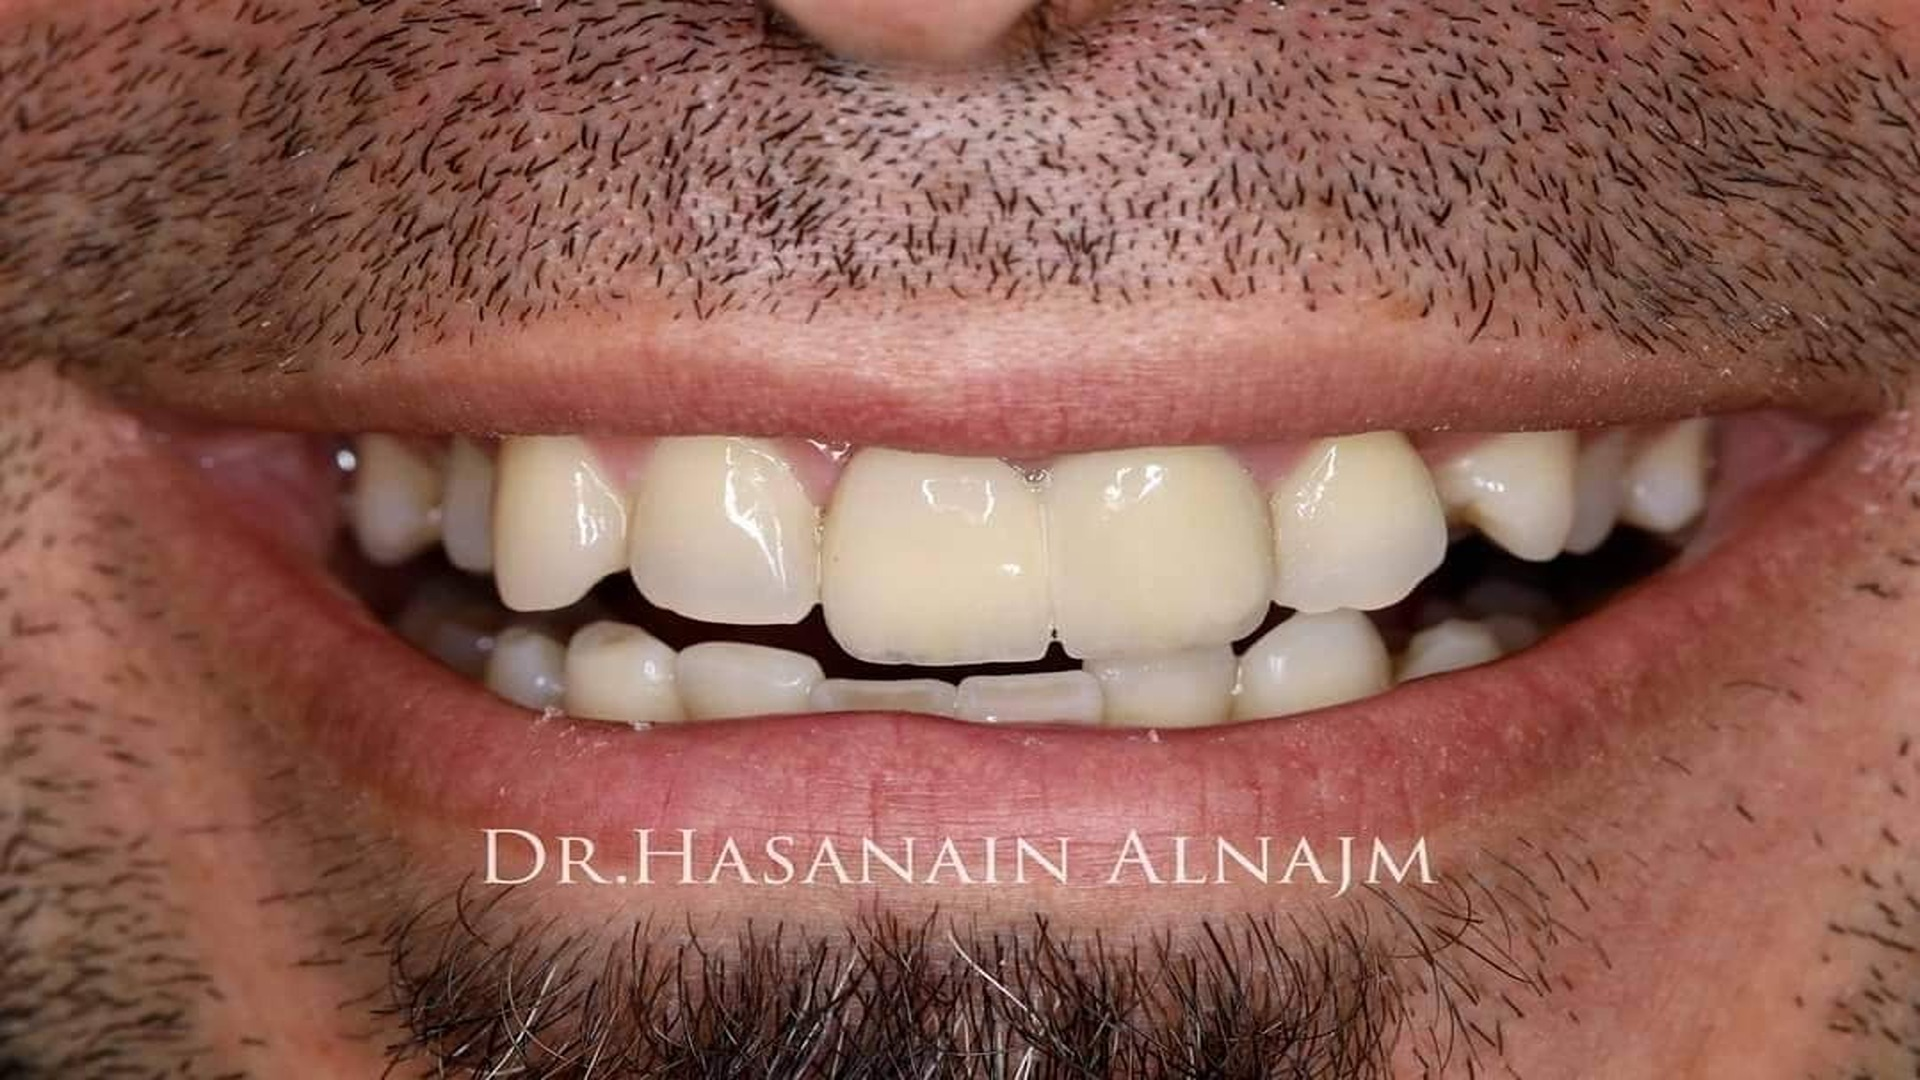tooth: (822, 446, 1052, 665), (1046, 446, 1273, 658), (628, 438, 822, 625), (1269, 430, 1447, 612), (495, 435, 629, 611), (1423, 433, 1578, 562), (1230, 611, 1393, 721), (564, 622, 686, 723), (1619, 417, 1716, 539), (674, 641, 824, 719), (1396, 618, 1524, 683), (953, 671, 1104, 724), (440, 433, 493, 574), (1567, 433, 1625, 555), (483, 626, 567, 709)
